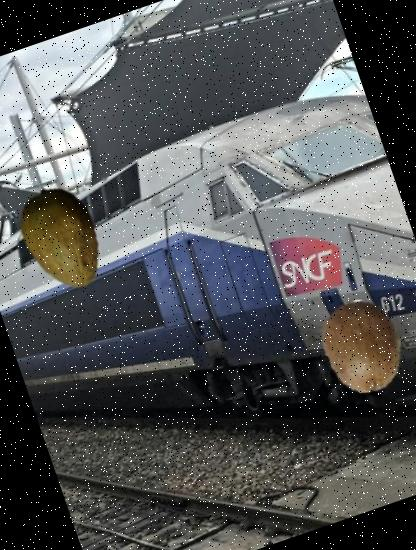Kiwi: (304, 287, 416, 405)
Papaya: (0, 168, 131, 307)
